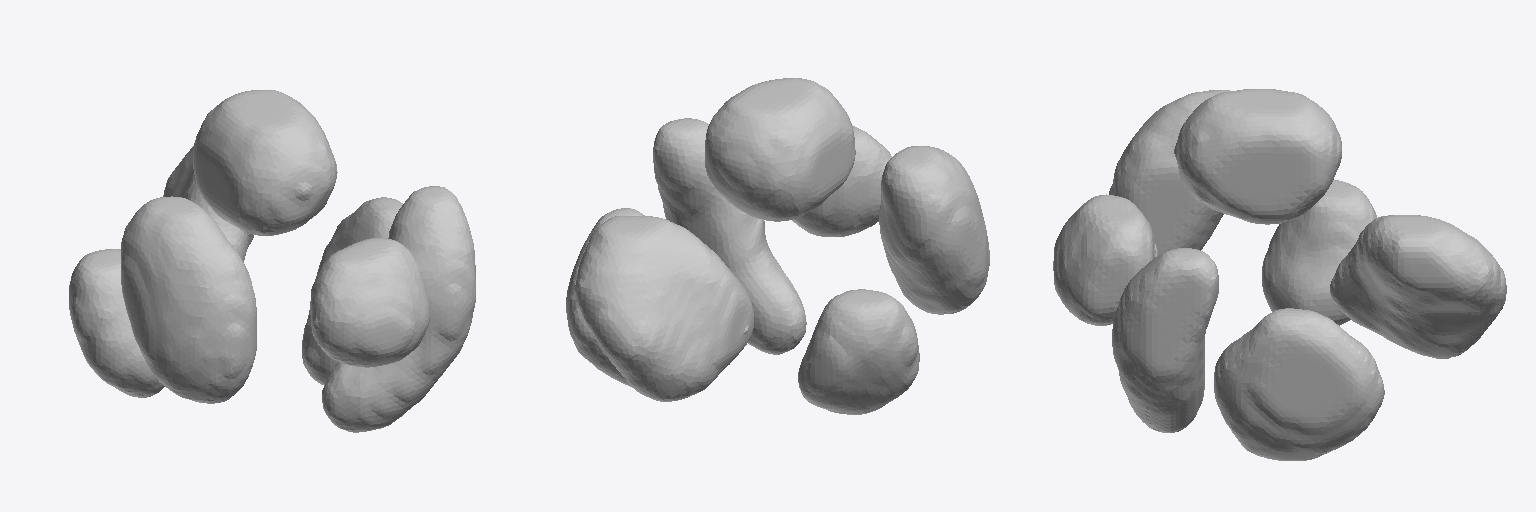
File: iso-crop-mosaic_8.obj
The picture shows the model from 3 angles: view 1: azimuth 30°, elevation 25°; view 2: azimuth 150°, elevation 25°; view 3: azimuth 270°, elevation 25°; orthographic projection.
Parts seen in each view (by area): view 1: 5, 6, 3, 2, 1, 4, 7; view 2: 7, 6, 5, 3, 1, 2, 4; view 3: 4, 7, 6, 3, 2, 1, 5.
Part boxes in pixels (bbox=[...]): 5: bbox=[121, 196, 256, 403]; 6: bbox=[193, 90, 337, 235]; 3: bbox=[322, 186, 475, 432]; 2: bbox=[310, 238, 429, 367]; 1: bbox=[69, 249, 164, 397]; 4: bbox=[302, 197, 402, 385]; 7: bbox=[163, 147, 253, 261]; 7: bbox=[575, 216, 753, 401]; 6: bbox=[705, 78, 855, 221]; 5: bbox=[879, 146, 989, 314]; 3: bbox=[653, 118, 806, 354]; 1: bbox=[798, 289, 919, 414]; 2: bbox=[792, 125, 891, 236]; 4: bbox=[566, 208, 644, 387]; 4: bbox=[1214, 308, 1384, 460]; 7: bbox=[1330, 215, 1506, 358]; 6: bbox=[1174, 89, 1341, 224]; 3: bbox=[1112, 248, 1218, 432]; 2: bbox=[1053, 194, 1157, 325]; 1: bbox=[1262, 180, 1376, 325]; 5: bbox=[1109, 90, 1229, 254].
Bounding box in the file's own units: 53.57 × 48.25 × 64.07.